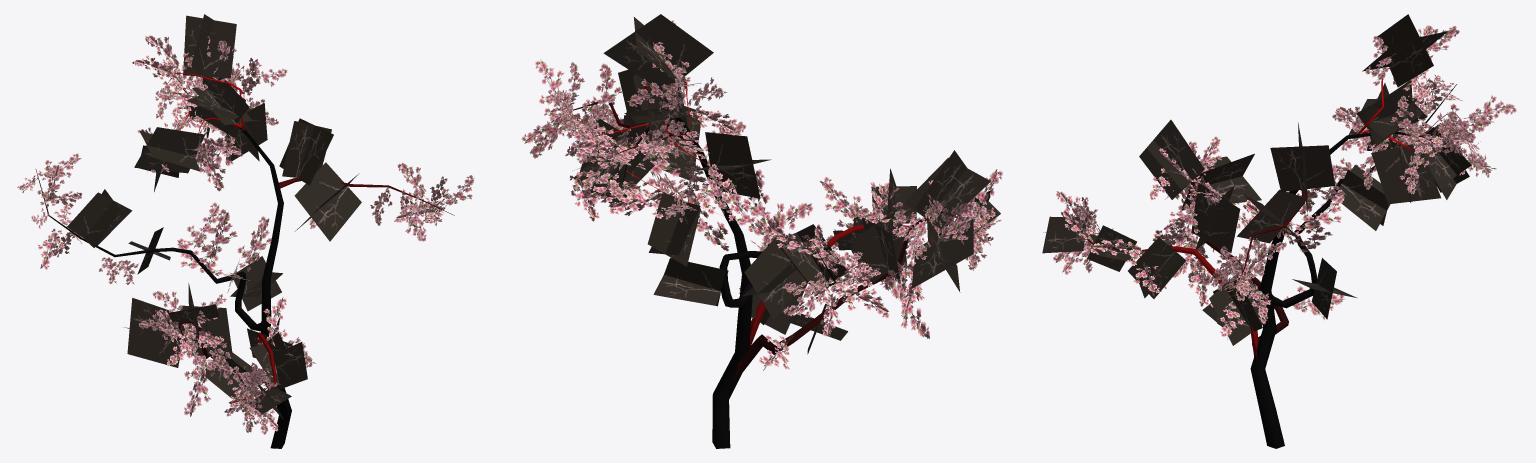
File: sakura3 lod0.FBX
3 renders of one model, left to right at view 1: azimuth 30°, elevation 25°; view 2: azimuth 150°, elevation 25°; view 3: azimuth 270°, elevation 25°, orthographic. The views are drawn at different scales.
Parts seen in each view (by area): view 1: sakura3; view 2: sakura3; view 3: sakura3.
Boxes of the visible parts, x1,y1,x2,y2 form: sakura3: (17, 14, 474, 448); sakura3: (521, 14, 1002, 448); sakura3: (1042, 14, 1516, 448).
Size of the model in its own units: 109618 by 110178 by 112410.
